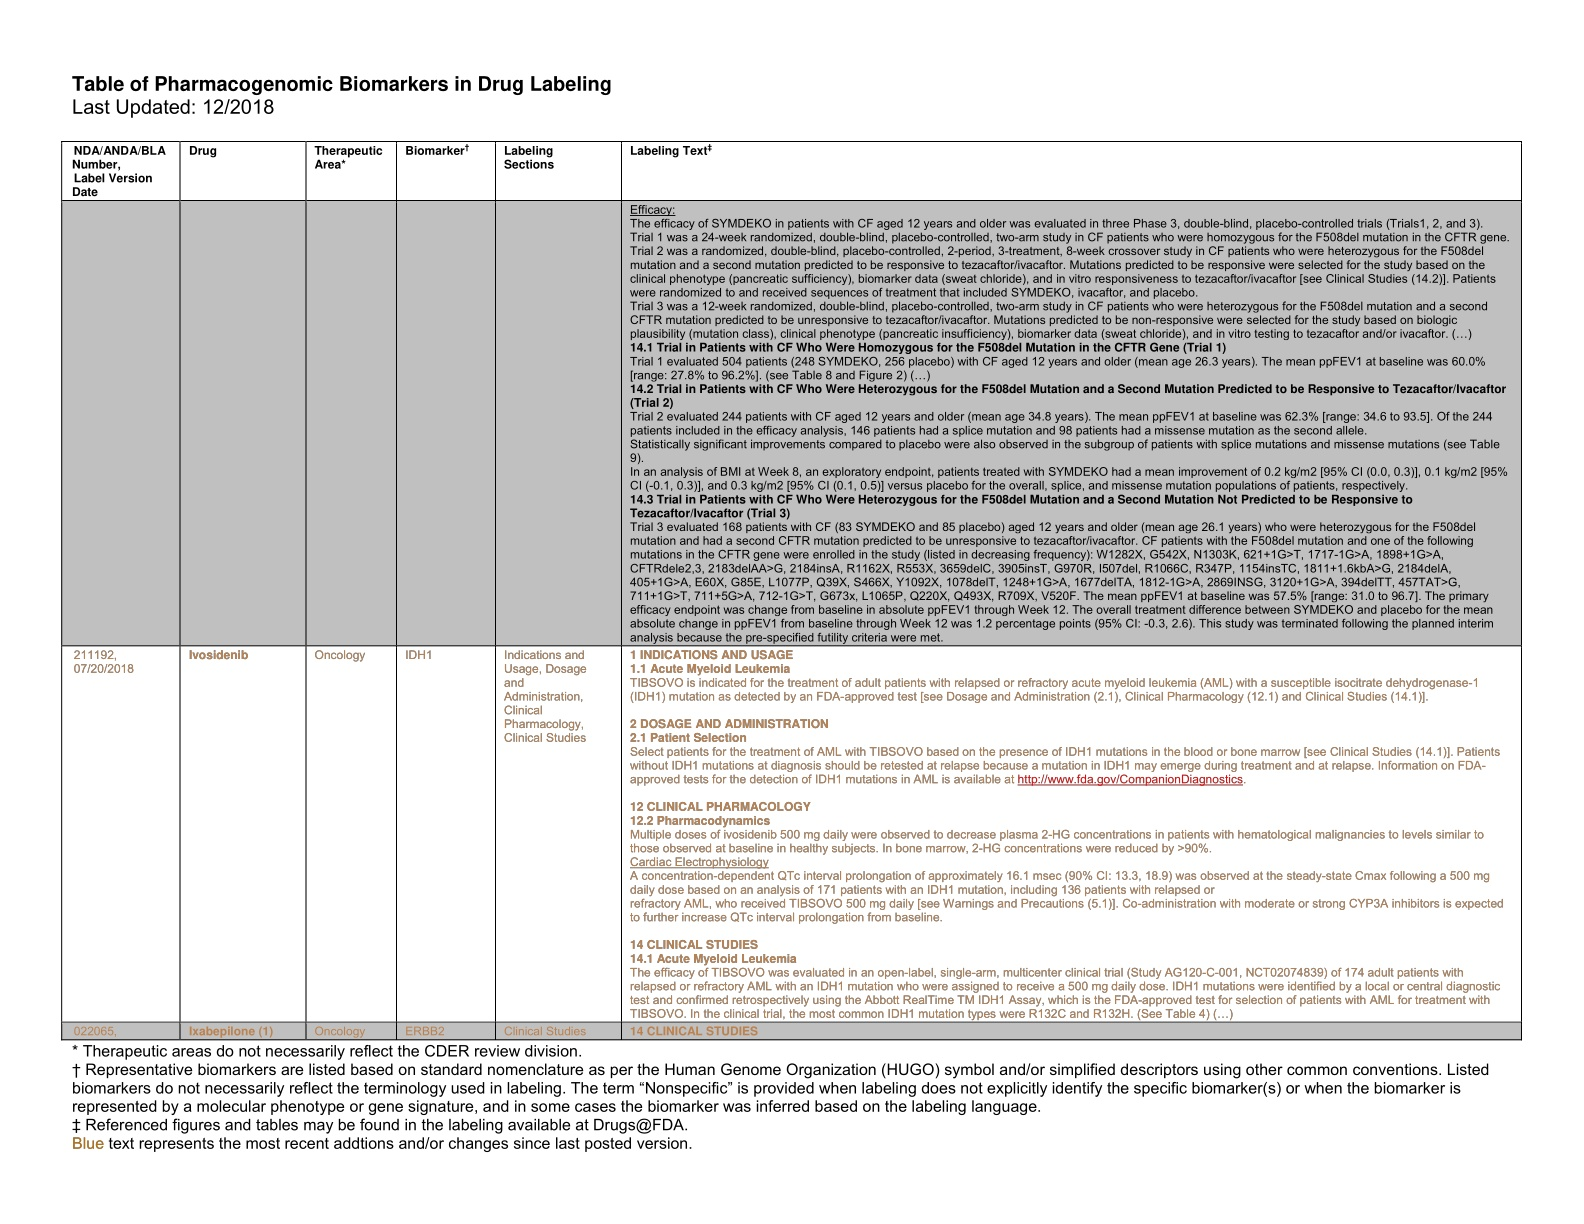full_lined: (60, 141, 1522, 1041)
